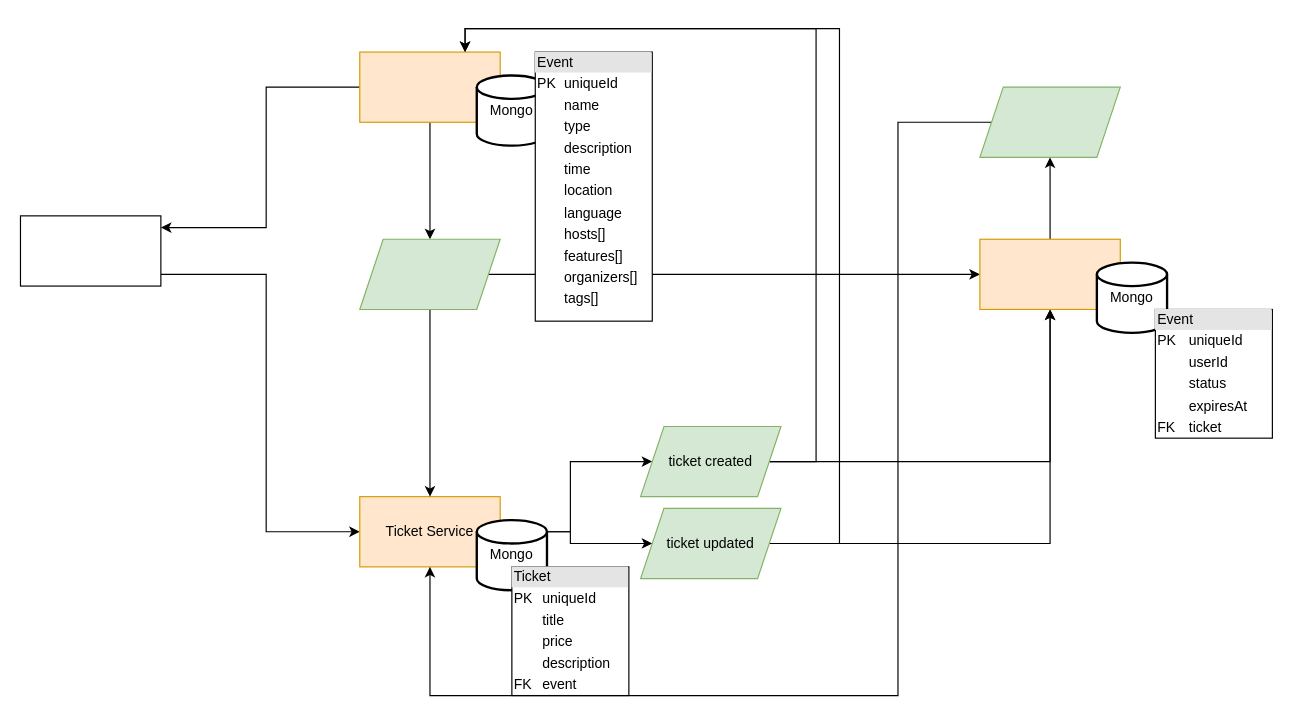
The diagram is 1293 pixels wide and 725 high, and some of its shapes have lost their labels. Each missing label, with the centre of its shape:
"Client" goes at point 90,250.
"event closed" goes at point 429,273.
"Event Service" goes at point 429,86.
"order cancelled" goes at point 1049,121.
"Order Service" goes at point 1049,273.
